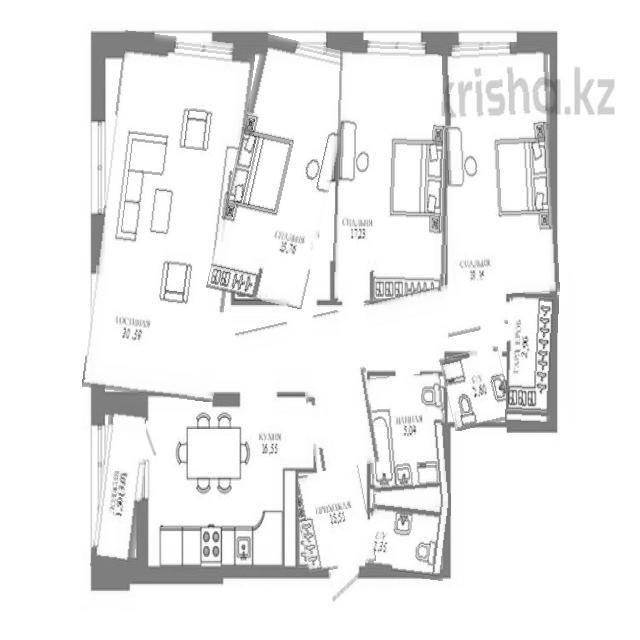balcony: (95, 403, 148, 570)
bathroom: (366, 373, 449, 512), (366, 496, 449, 579), (443, 348, 511, 429)
hallway: (236, 288, 507, 370), (304, 354, 376, 469), (295, 468, 372, 572)
kitchen: (146, 393, 298, 570)
living_room: (92, 34, 246, 399), (220, 37, 346, 306), (334, 40, 451, 305), (445, 41, 557, 296)
other: (507, 294, 558, 428)
